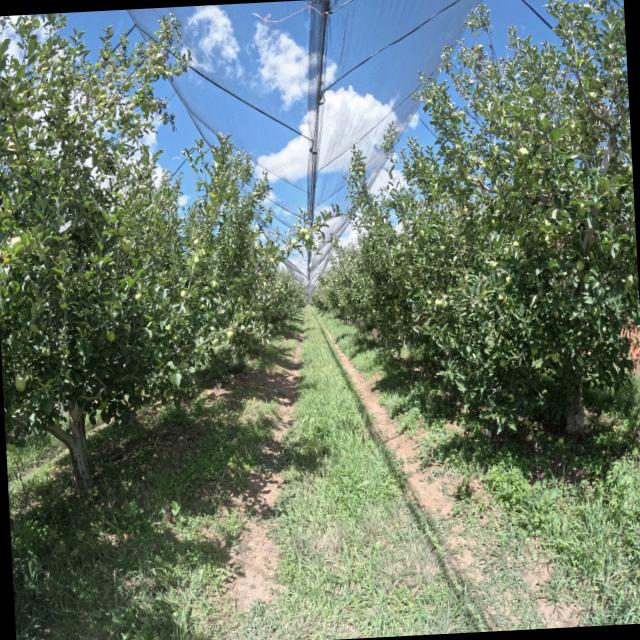-FireBlight-: (620, 321, 640, 389)
